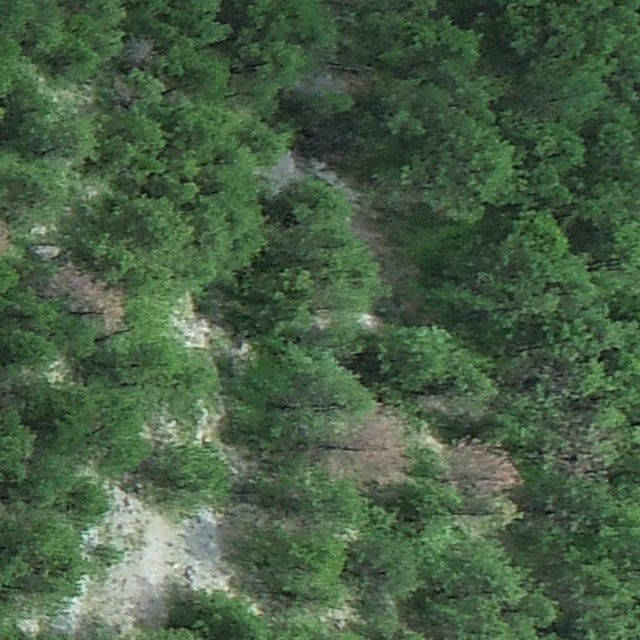unhealthy: (329, 407, 411, 493), (52, 260, 124, 331), (449, 439, 519, 495), (121, 36, 159, 67), (111, 75, 137, 104), (0, 217, 12, 255)
